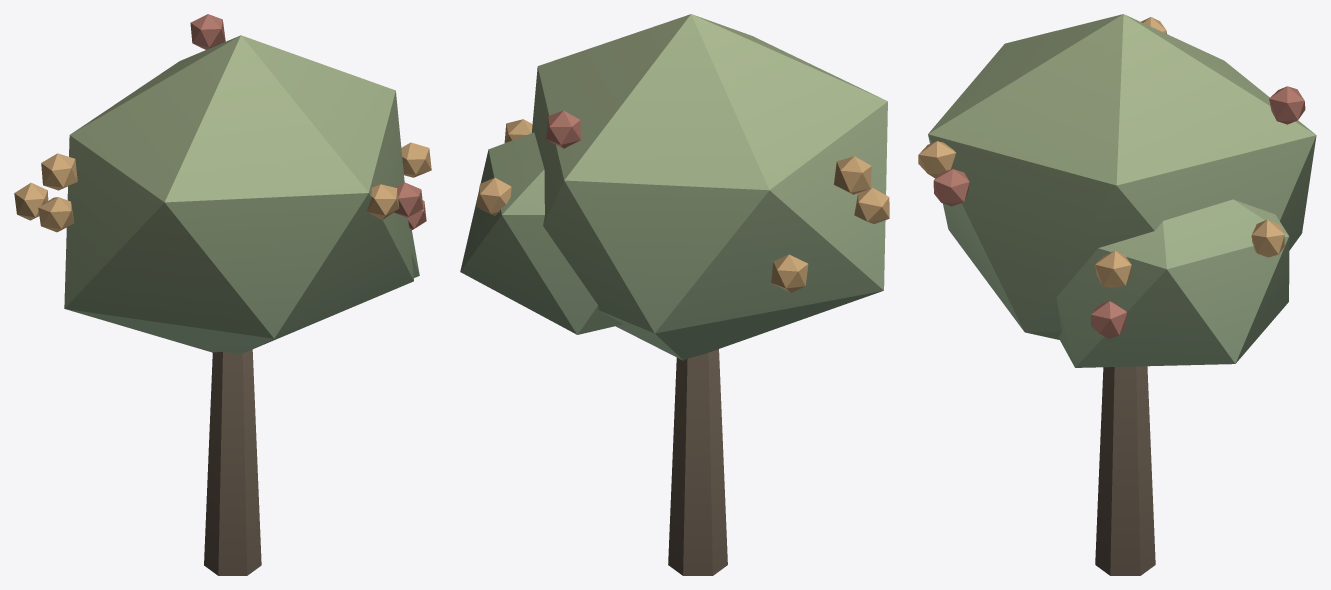
The model's file is iv_orchard.glb.
3 views of the same model, side by side, from view 1: azimuth 30°, elevation 25°; view 2: azimuth 150°, elevation 25°; view 3: azimuth 270°, elevation 25° (orthographic). The views are drawn at different scales.
Parts seen in each view (by area): view 1: iv_orchard; view 2: iv_orchard; view 3: iv_orchard.
Boxes of the visible parts, x1,y1,x2,y2 form: iv_orchard: (14, 14, 431, 575); iv_orchard: (460, 14, 889, 575); iv_orchard: (918, 14, 1316, 575).
Bounding box in the file's own units: 2.43 × 3.24 × 2.11.
